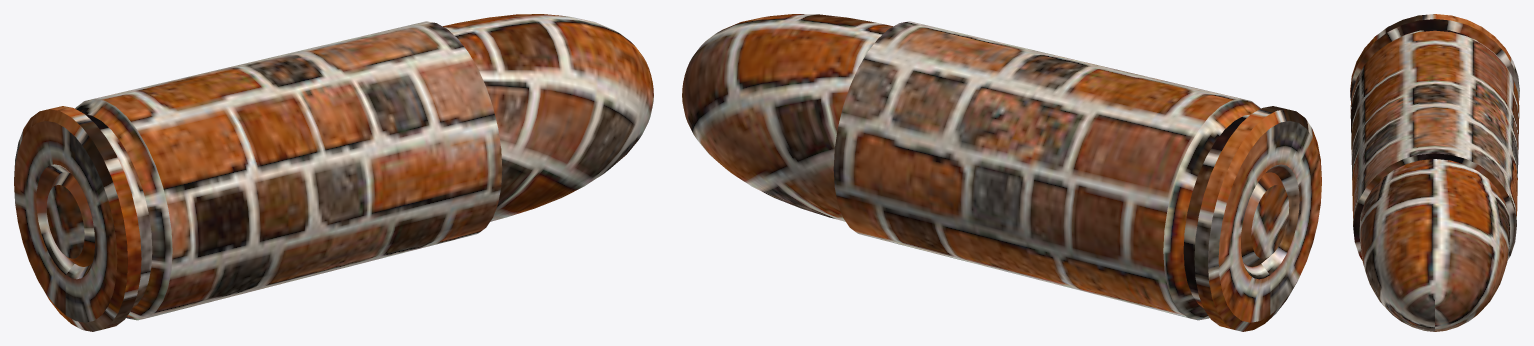
The model's file is Bullet.obj.
The picture shows the model from 3 angles, left to right: view 1: azimuth 30°, elevation 25°; view 2: azimuth 150°, elevation 25°; view 3: azimuth 270°, elevation 25°; orthographic projection. The views are drawn at different scales.
Parts seen in each view (by area): view 1: Bullet; view 2: Bullet; view 3: Bullet.
Part boxes in pixels (x1,y1,x2,y2): Bullet: (14, 14, 653, 331); Bullet: (682, 14, 1321, 331); Bullet: (1350, 14, 1519, 331).
Bounding box in the file's own units: 2.92 × 0.9949 × 0.9949.
